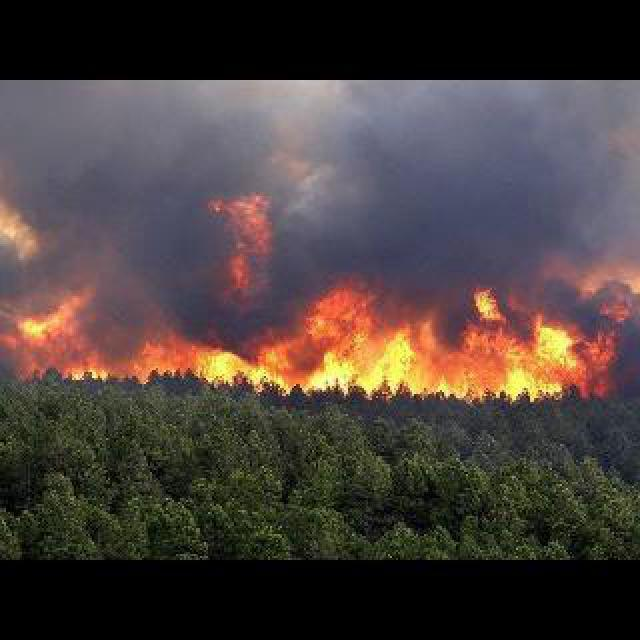Fire: (120, 276, 626, 402), (14, 278, 104, 384)
